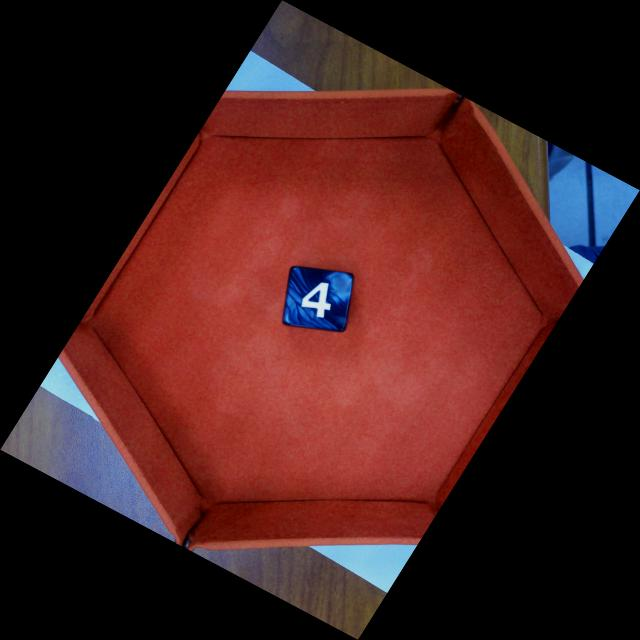dice: (285, 267, 351, 329)
